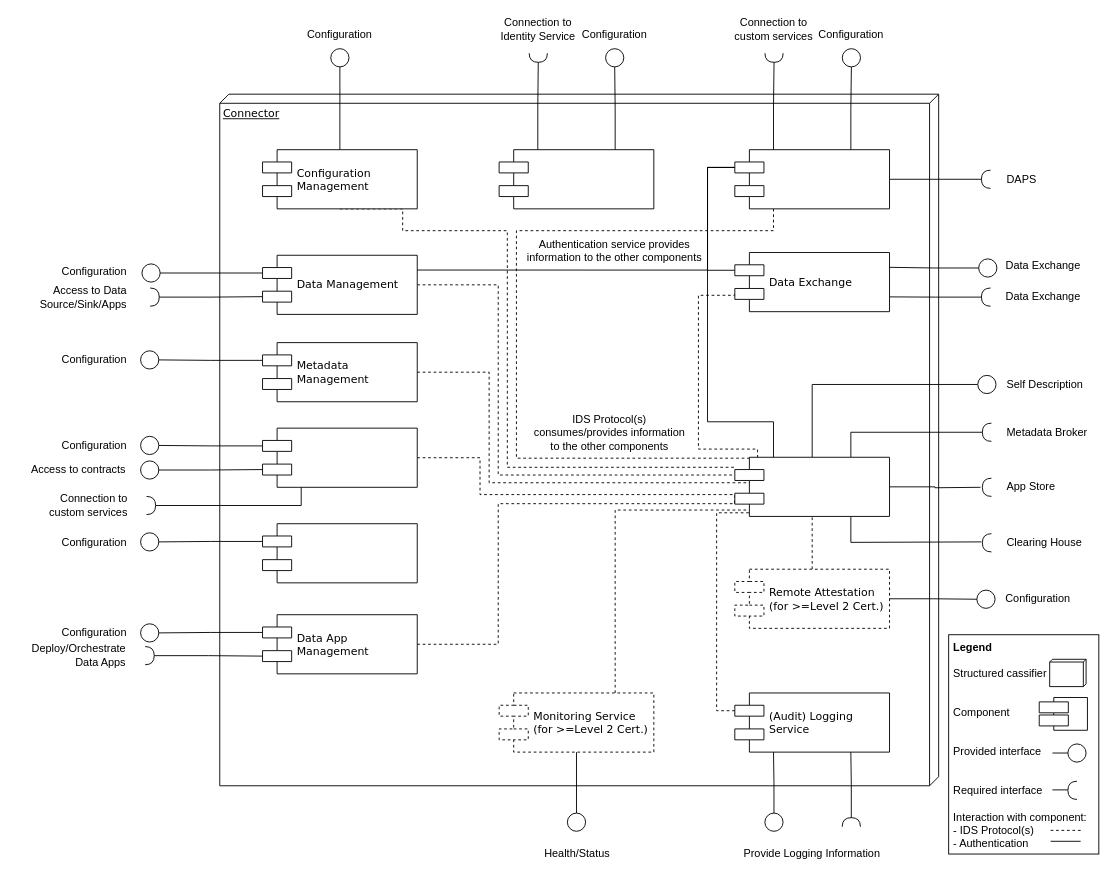
This 1115x883 diagram has some shape labels left out. The centre of each missing label's shape, as x and y in pixels:
"Authentication service" belongs at point (812, 179).
"Contract Management" belongs at point (339, 457).
"IDS Protocol(s)" belongs at point (812, 486).
"Policy Engine (PAP, PEP, PIP, PXP, PMP, PDP)" belongs at point (339, 553).
"User Management" belongs at point (576, 179).
